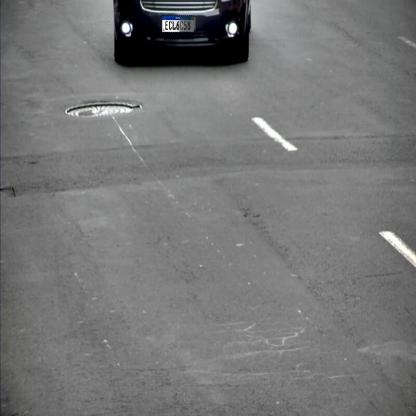PlacaM: (162, 15, 194, 33)
